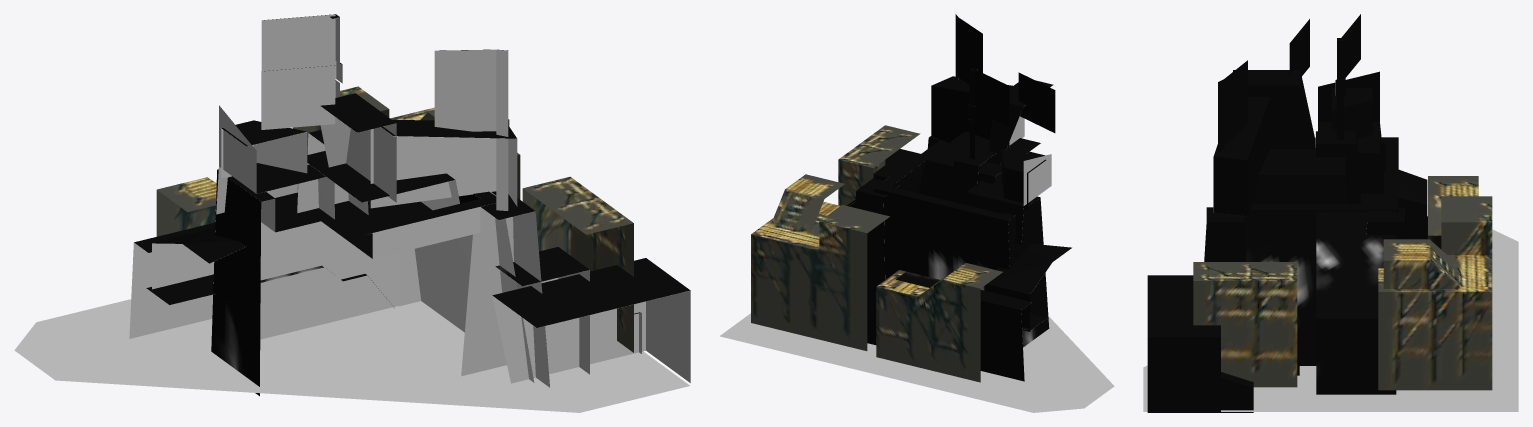
File: T_Powcamp_01.fbx
3 views of the same model, side by side, from view 1: azimuth 30°, elevation 25°; view 2: azimuth 150°, elevation 25°; view 3: azimuth 270°, elevation 25° (orthographic). The views are drawn at different scales.
Visible parts, largest first — view 1: T_Powcamp_01, FX_Territory_NightGlow, T_BuildForm_02 (4), T_BuildForm_03 (1), T_BuildForm_01; view 2: FX_Territory_NightGlow, T_BuildForm_01, T_Powcamp_01, T_BuildForm_03 (1), T_BuildForm_02 (4); view 3: FX_Territory_NightGlow, T_BuildForm_01, T_BuildForm_02 (4), T_Powcamp_01, T_BuildForm_03 (1).
Boxes of the visible parts, bbox=[...] form: T_Powcamp_01: bbox=[14, 14, 690, 412]; FX_Territory_NightGlow: bbox=[134, 14, 690, 396]; T_BuildForm_02 (4): bbox=[522, 176, 633, 352]; T_BuildForm_03 (1): bbox=[156, 177, 216, 236]; T_BuildForm_01: bbox=[293, 86, 520, 199]; FX_Territory_NightGlow: bbox=[846, 14, 1071, 381]; T_BuildForm_01: bbox=[751, 174, 889, 350]; T_Powcamp_01: bbox=[720, 78, 1114, 412]; T_BuildForm_03 (1): bbox=[876, 263, 1002, 382]; T_BuildForm_02 (4): bbox=[838, 125, 920, 205]; FX_Territory_NightGlow: bbox=[1147, 14, 1441, 412]; T_BuildForm_01: bbox=[1378, 196, 1492, 390]; T_BuildForm_02 (4): bbox=[1193, 262, 1297, 387]; T_Powcamp_01: bbox=[1143, 80, 1518, 411]; T_BuildForm_03 (1): bbox=[1428, 176, 1478, 235].
Size of the model in its own units: 9.93 by 7.01 by 8.31.
